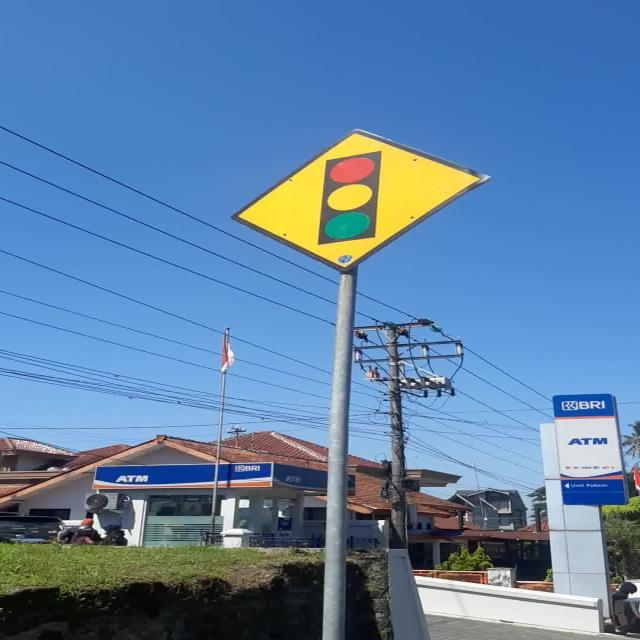Lampu Lalu Lintas: (230, 129, 492, 273)
